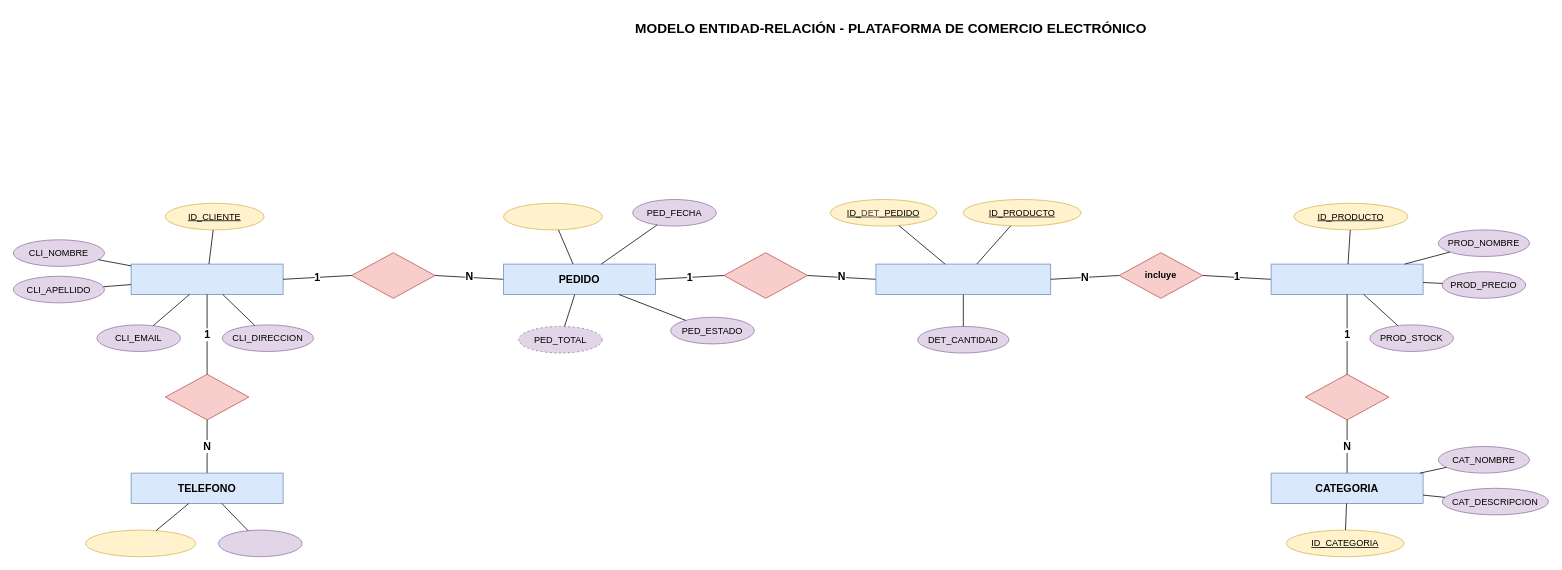
Image size: 1562x570. Some labels were removed from this diagram. Here are the shapes that lost their labels. From the top down, the box of each, then its label:
(503, 203, 602, 230): ID_PEDIDO
(130, 263, 283, 294): CLIENTE
(351, 252, 435, 298): realiza
(723, 252, 808, 298): genera
(875, 263, 1051, 294): DETALLE_PEDIDO
(1270, 263, 1423, 294): PRODUCTO
(165, 374, 249, 420): tiene
(1305, 374, 1389, 420): clasifica
(85, 529, 196, 557): ID_TELEFONO
(218, 529, 302, 557): TEL_NUMERO
